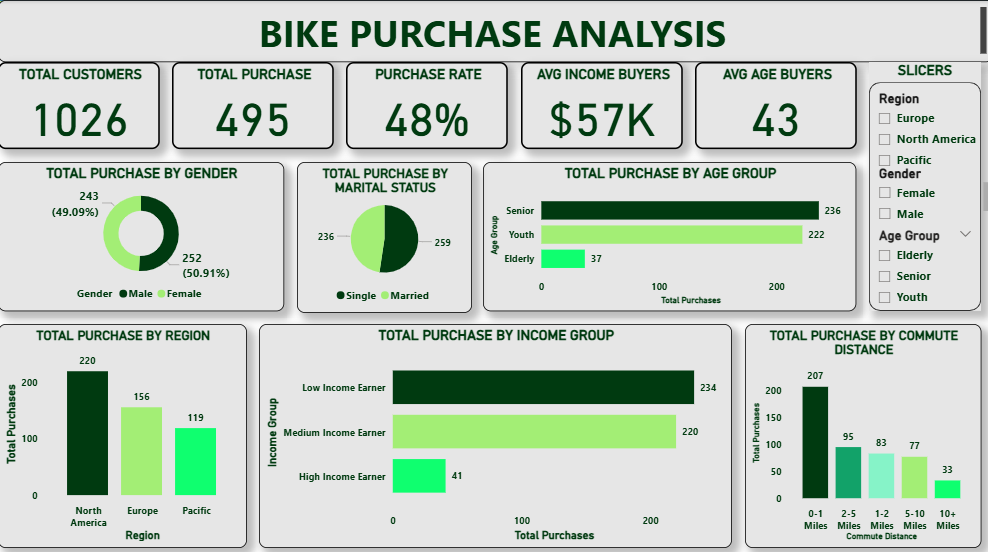

This screenshot's page, from the dashboard's own definition file:
{"tool":"powerbi","page":{"name":"Page 1","canvas":[1280,720],"ordinal":0},"visuals":[{"type":"shape","box":[0,0,1280,64],"z":0},{"type":"textbox","box":[0,0,1280,80],"z":1000},{"type":"card","title":"TOTAL CUSTOMERS","fields":{"Values":["bike_buyers.Total Customers"]},"box":[0,80,208,112],"z":2000},{"type":"card","title":"TOTAL PURCHASE","fields":{"Values":["bike_buyers.Total Purchases"]},"box":[224,80,208,112],"z":3000},{"type":"card","title":"PURCHASE RATE","fields":{"Values":["bike_buyers.Purchase Rate"]},"box":[448,80,208,112],"z":4000},{"type":"card","title":"AVG INCOME BUYERS","fields":{"Values":["bike_buyers.Avg Income Buyers"]},"box":[672,80,208,112],"z":5000},{"type":"card","title":"AVG AGE BUYERS","fields":{"Values":["bike_buyers.Avg Age Buyers"]},"box":[896,80,208,112],"z":6000},{"type":"donutChart","title":"TOTAL PURCHASE BY GENDER","fields":{"Category":["bike_buyers.Gender"],"Y":["bike_buyers.Total Purchases"]},"box":[0,208,368,192],"z":7000},{"type":"clusteredBarChart","title":"TOTAL PURCHASE BY AGE GROUP","fields":{"Y":["bike_buyers.Total Purchases"],"Category":["bike_buyers.Age Group"]},"box":[624,208,480,192],"z":8000},{"type":"clusteredColumnChart","title":"TOTAL PURCHASE BY REGION","fields":{"Y":["bike_buyers.Total Purchases"],"Category":["bike_buyers.Region"]},"box":[0,416,320,288],"z":9000},{"type":"pieChart","title":"TOTAL PURCHASE BY MARITAL STATUS","fields":{"Y":["bike_buyers.Total Purchases"],"Category":["bike_buyers.Marital Status"]},"box":[384,208,225,194],"z":10000},{"type":"barChart","title":"TOTAL PURCHASE BY INCOME GROUP","fields":{"Y":["bike_buyers.Total Purchases"],"Category":["bike_buyers.Income Group"]},"box":[336,416,608,288],"z":11000},{"type":"columnChart","title":"TOTAL PURCHASE BY COMMUTE DISTANCE","fields":{"Category":["bike_buyers.Commute Distance"],"Y":["bike_buyers.Total Purchases"]},"box":[960,416,304,288],"z":12000},{"type":"shape","title":"SLICERS","box":[1120,80,144,320],"z":13000},{"type":"slicer","fields":{"Values":["bike_buyers.Gender"]},"box":[1120,208,160,80],"z":14000},{"type":"slicer","fields":{"Values":["bike_buyers.Region"]},"box":[1120,112,160,112],"z":15000},{"type":"slicer","fields":{"Values":["bike_buyers.Age Group"]},"box":[1120,288,144,112],"z":16000}]}

Visuals, with their boxes in screenshot pixels (x1, y1, x2, y2), scaled from the page's 1280x720 canvas onto the 988x552 screenshot:
shape: (0,0,987,49)
textbox: (0,0,987,61)
"TOTAL CUSTOMERS" card: (0,61,161,147)
"TOTAL PURCHASE" card: (173,61,333,147)
"PURCHASE RATE" card: (346,61,506,147)
"AVG INCOME BUYERS" card: (519,61,679,147)
"AVG AGE BUYERS" card: (692,61,852,147)
"TOTAL PURCHASE BY GENDER" donutChart: (0,159,284,307)
"TOTAL PURCHASE BY AGE GROUP" clusteredBarChart: (482,159,852,307)
"TOTAL PURCHASE BY REGION" clusteredColumnChart: (0,319,247,540)
"TOTAL PURCHASE BY MARITAL STATUS" pieChart: (296,159,470,308)
"TOTAL PURCHASE BY INCOME GROUP" barChart: (259,319,729,540)
"TOTAL PURCHASE BY COMMUTE DISTANCE" columnChart: (741,319,976,540)
"SLICERS" shape: (864,61,976,307)
slicer - bike_buyers.Gender: (864,159,987,221)
slicer - bike_buyers.Region: (864,86,987,172)
slicer - bike_buyers.Age Group: (864,221,976,307)
